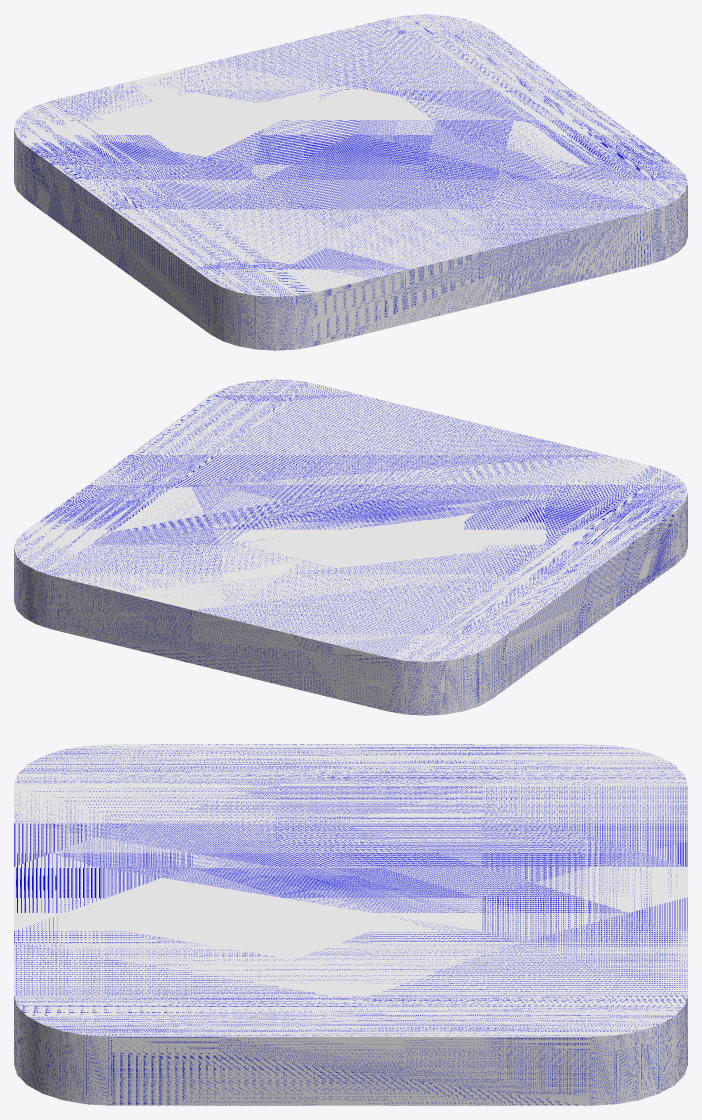
Rendered from original-35.obj.
3 views of the same model, one above another, from view 1: azimuth 30°, elevation 25°; view 2: azimuth 150°, elevation 25°; view 3: azimuth 270°, elevation 25° (orthographic). The views are drawn at different scales.
Parts seen in each view (by area): view 1: mesh34/mesh34-geometry#mesh34-geometry; view 2: mesh34/mesh34-geometry#mesh34-geometry; view 3: mesh34/mesh34-geometry#mesh34-geometry.
Part boxes in pixels (x1,y1,x2,y2): mesh34/mesh34-geometry#mesh34-geometry: (14, 14, 687, 350); mesh34/mesh34-geometry#mesh34-geometry: (14, 379, 687, 715); mesh34/mesh34-geometry#mesh34-geometry: (14, 744, 687, 1105).
Bounding box in the file's own units: 0.0611 × 0.00672 × 0.0595.
